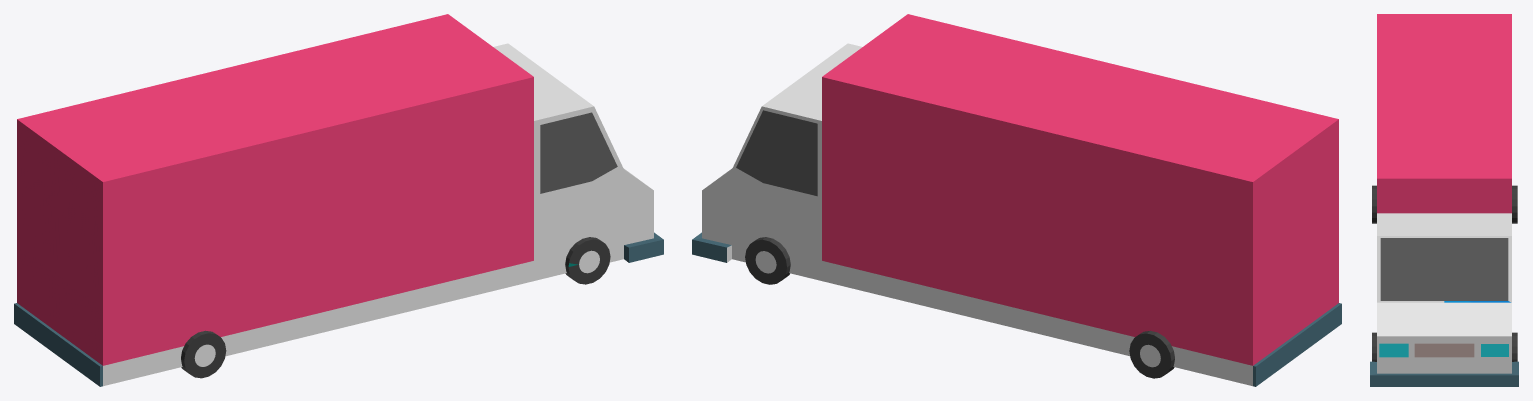
The model's file is Kamionce3x1Pink.fbx.
3 renders of one model, left to right at view 1: azimuth 30°, elevation 25°; view 2: azimuth 150°, elevation 25°; view 3: azimuth 270°, elevation 25°, orthographic. The views are drawn at different scales.
Visible parts, largest first — view 1: Car_08_4; view 2: Car_08_4; view 3: Car_08_4.
Part boxes in pixels (box(x1,y1,x2,y2)): Car_08_4: box(14, 14, 663, 386); Car_08_4: box(692, 14, 1341, 386); Car_08_4: box(1370, 14, 1518, 386).
Bounding box in the file's own units: 2.98 × 1.1 × 0.8755.
Materials: 1 (1 with a texture image).
